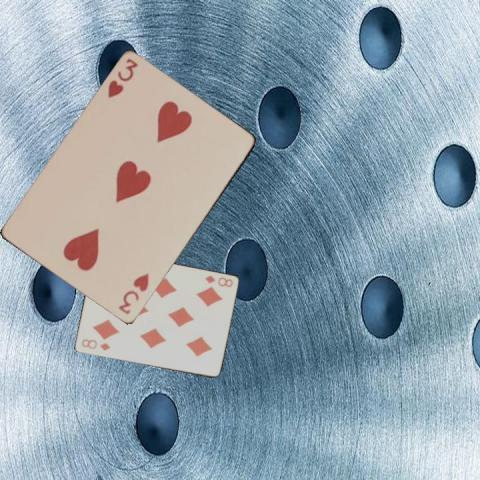3h: (115, 271, 151, 316), (105, 55, 140, 100)
8d: (78, 336, 111, 352), (202, 272, 234, 288)
